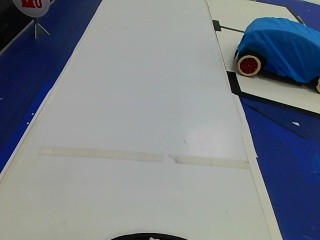battery: (12, 0, 49, 14)
car: (230, 15, 318, 83)
